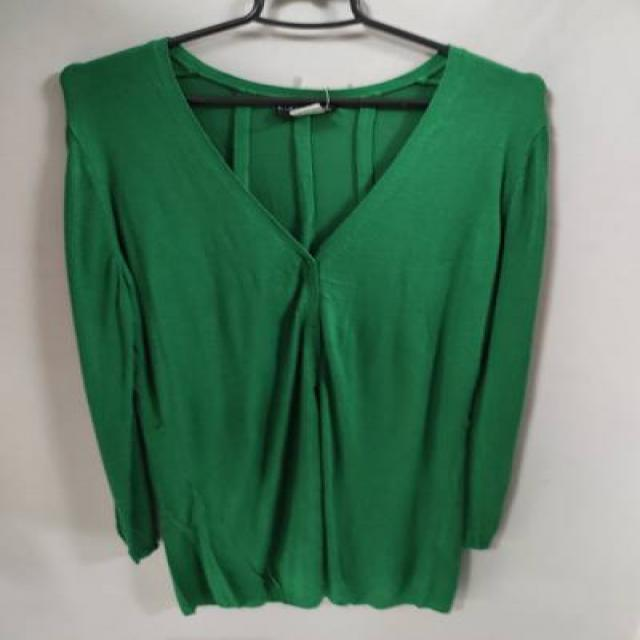Clothes -Biodegradable-: (62, 41, 551, 614)
